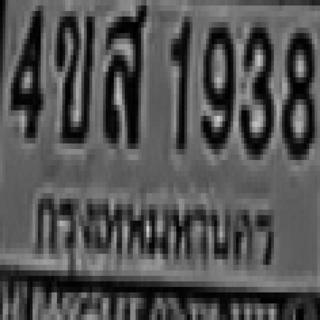A02: (54, 5, 92, 138)
A40: (102, 0, 145, 138)
N01: (168, 11, 190, 149)
N03: (239, 17, 271, 154)
N04: (8, 3, 41, 135)
N08: (281, 22, 313, 154)
N09: (199, 17, 232, 149)
P04: (29, 182, 278, 276)
